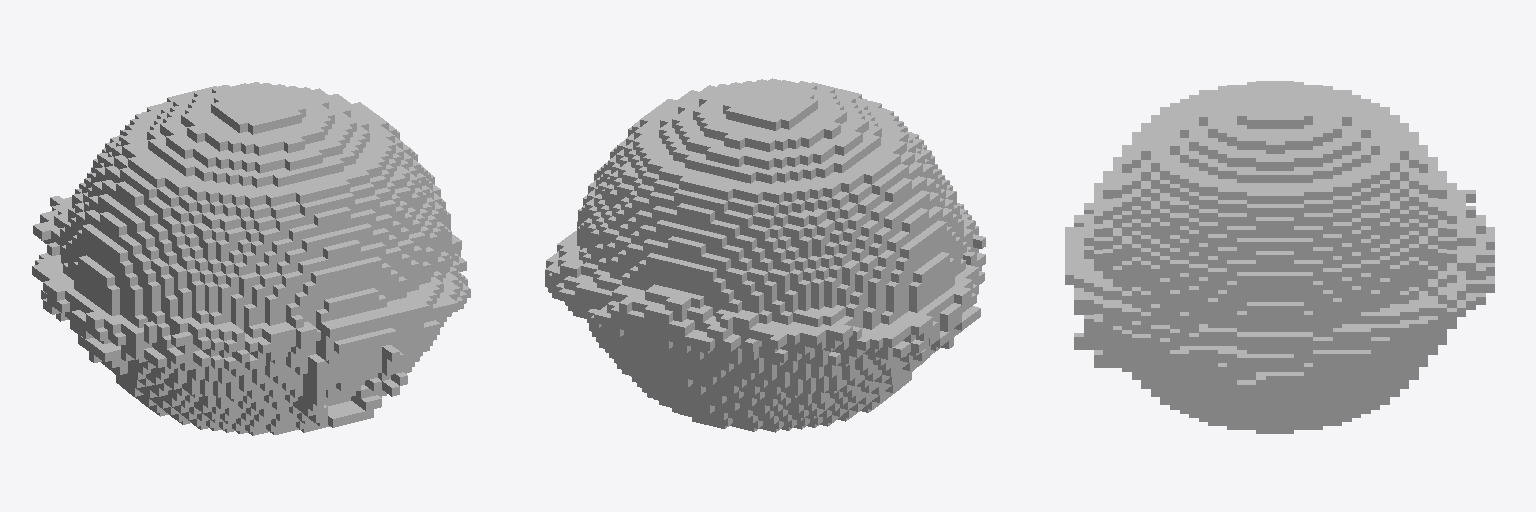
File: 거북이 등껍질.obj
The picture shows the model from 3 angles: view 1: azimuth 30°, elevation 25°; view 2: azimuth 150°, elevation 25°; view 3: azimuth 270°, elevation 25°; orthographic projection.
Visible parts, largest first — view 1: object 1; view 2: object 1; view 3: object 1.
Boxes of the visible parts, x1=… form: object 1: x1=32, y1=82, x2=470, y2=435; object 1: x1=545, y1=78, x2=985, y2=432; object 1: x1=1065, y1=81, x2=1494, y2=433.
Bounding box in the file's own units: 4.4 × 3.5 × 4.5.